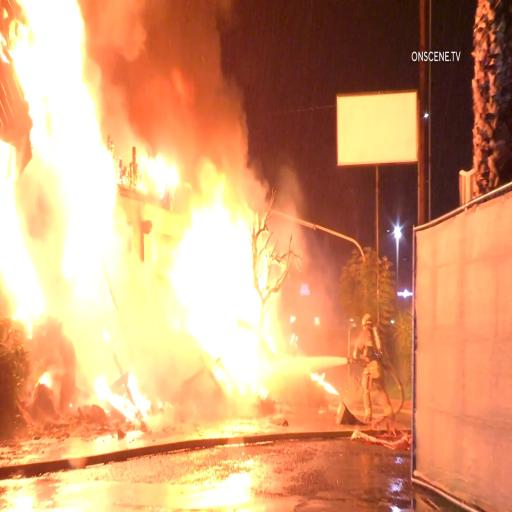fire: (1, 11, 101, 406), (186, 166, 285, 394)
smoke: (110, 4, 247, 158)
